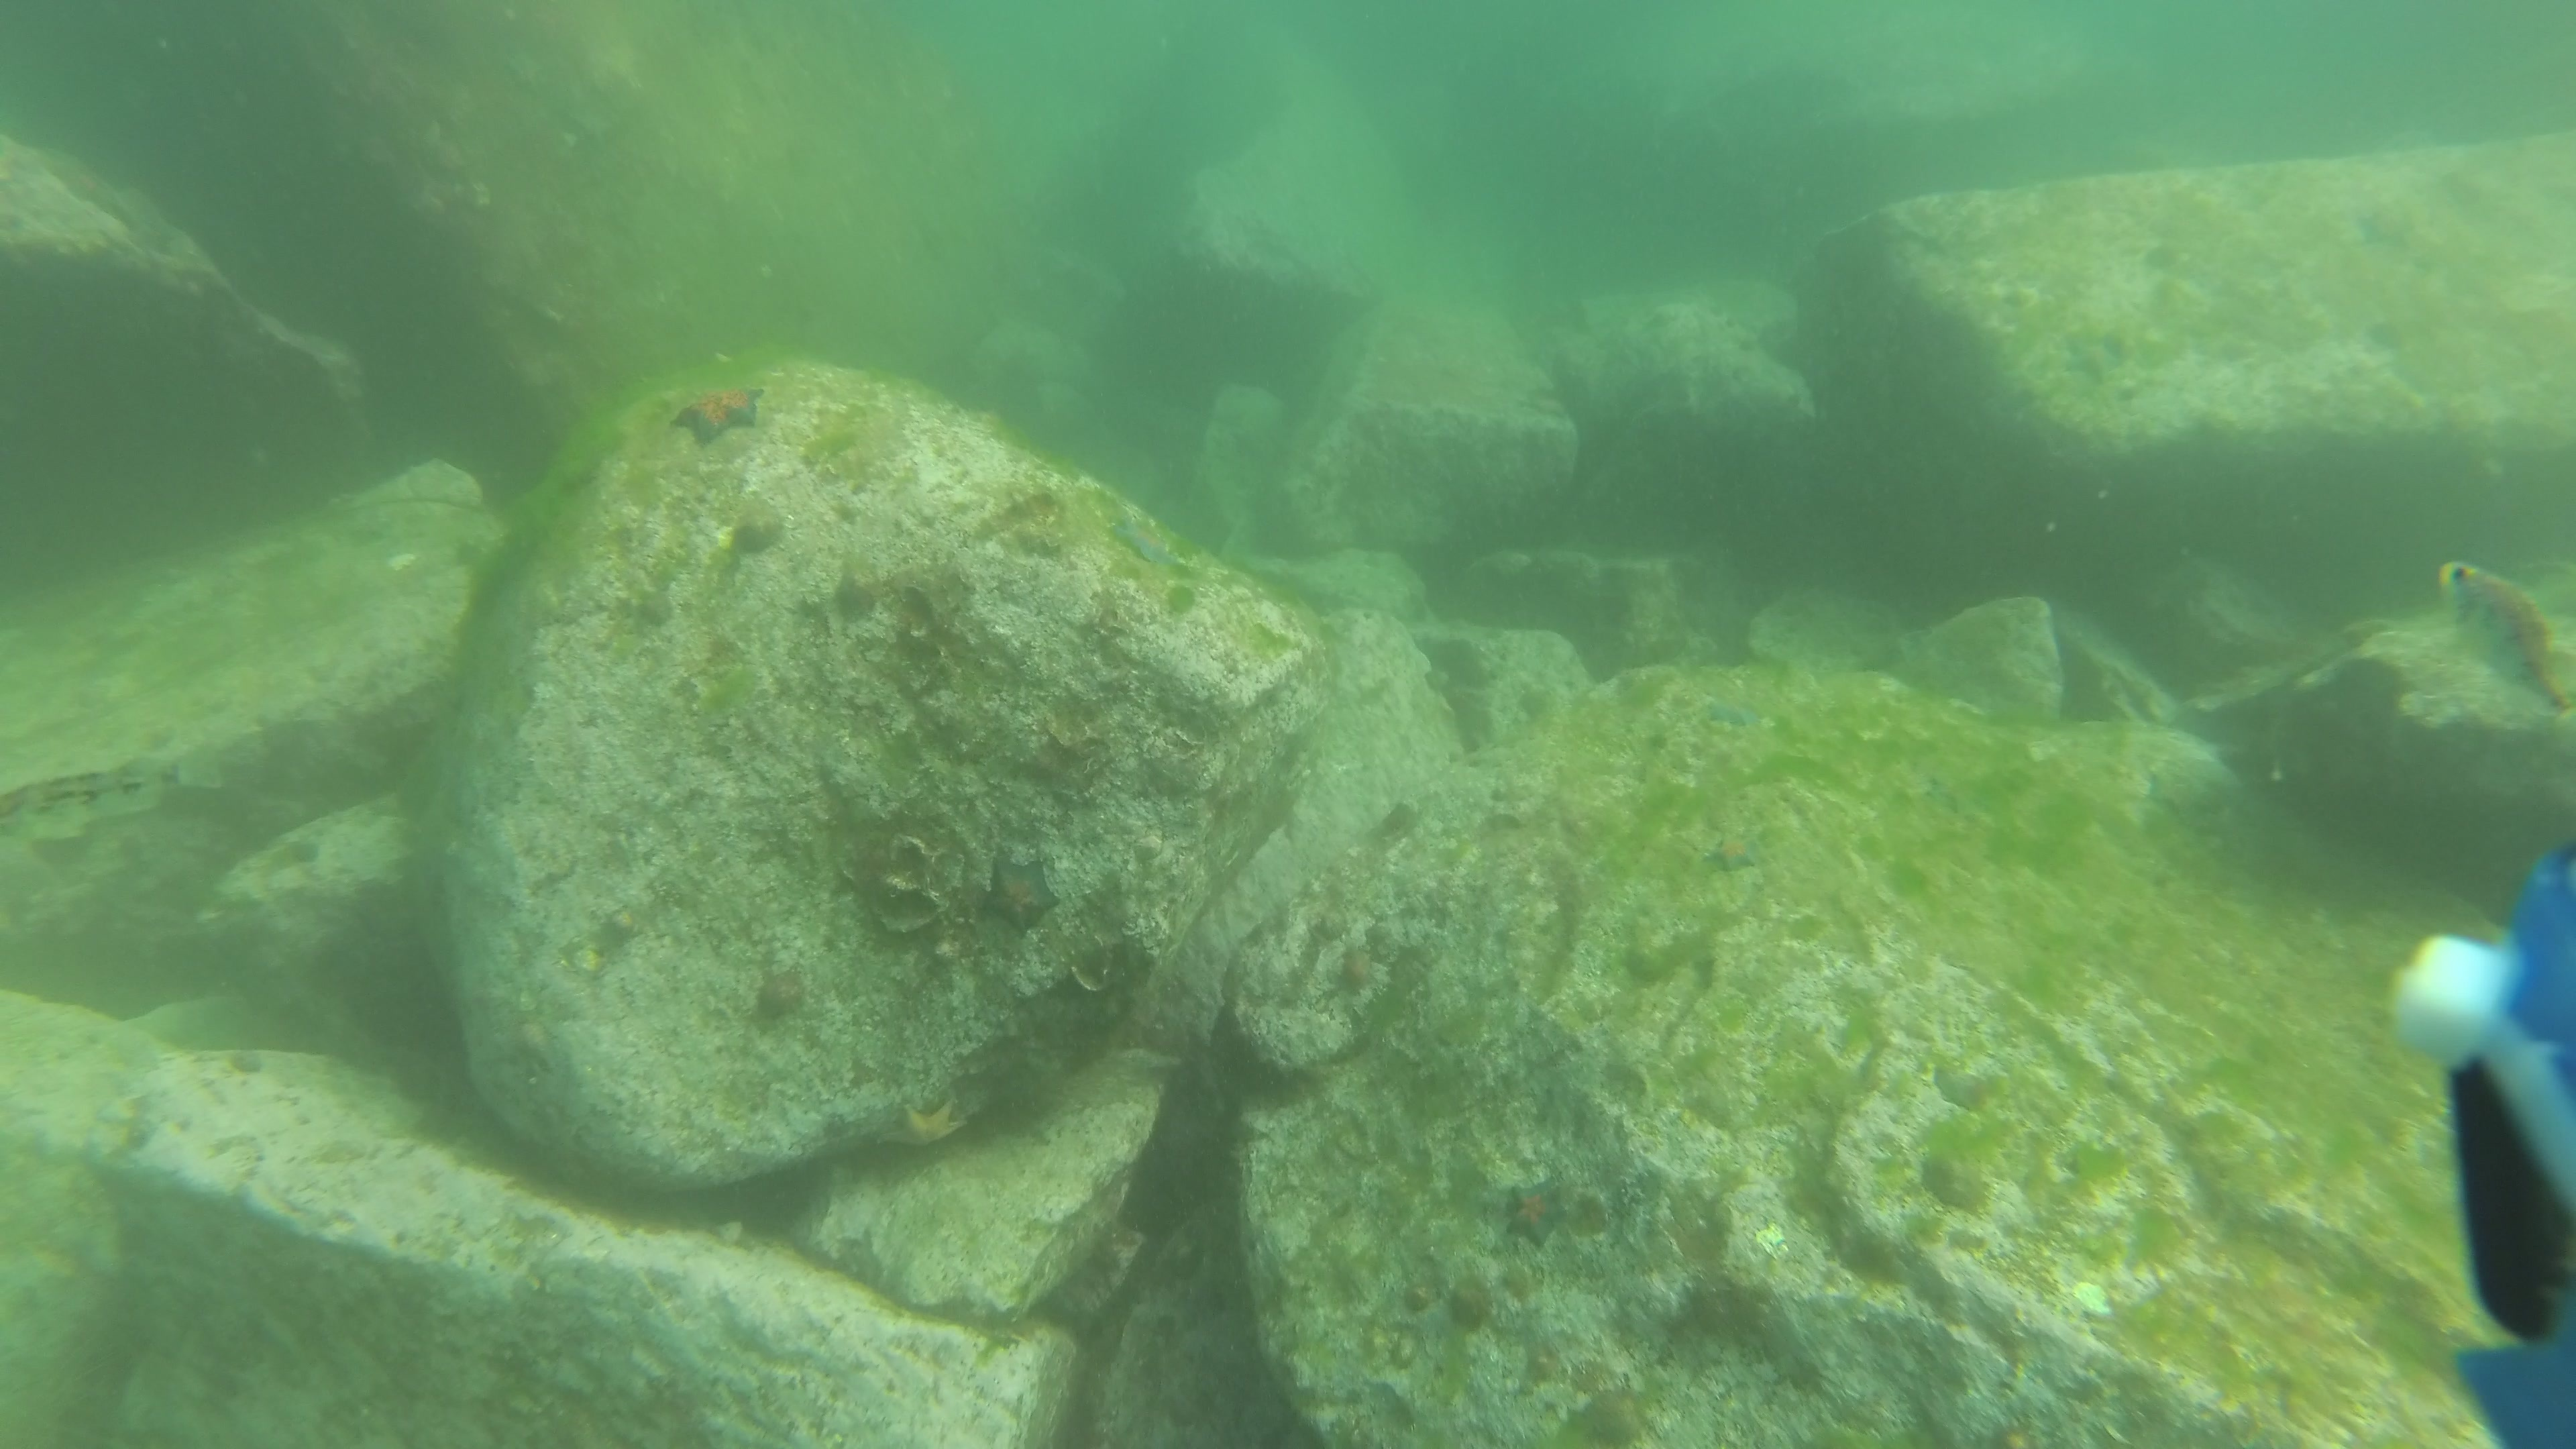starfish: (975, 847, 1067, 939), (667, 382, 770, 446), (1500, 1171, 1576, 1251), (881, 1093, 971, 1157), (1104, 508, 1182, 568), (1704, 824, 1767, 881), (1704, 688, 1760, 734), (2065, 329, 2121, 375)
